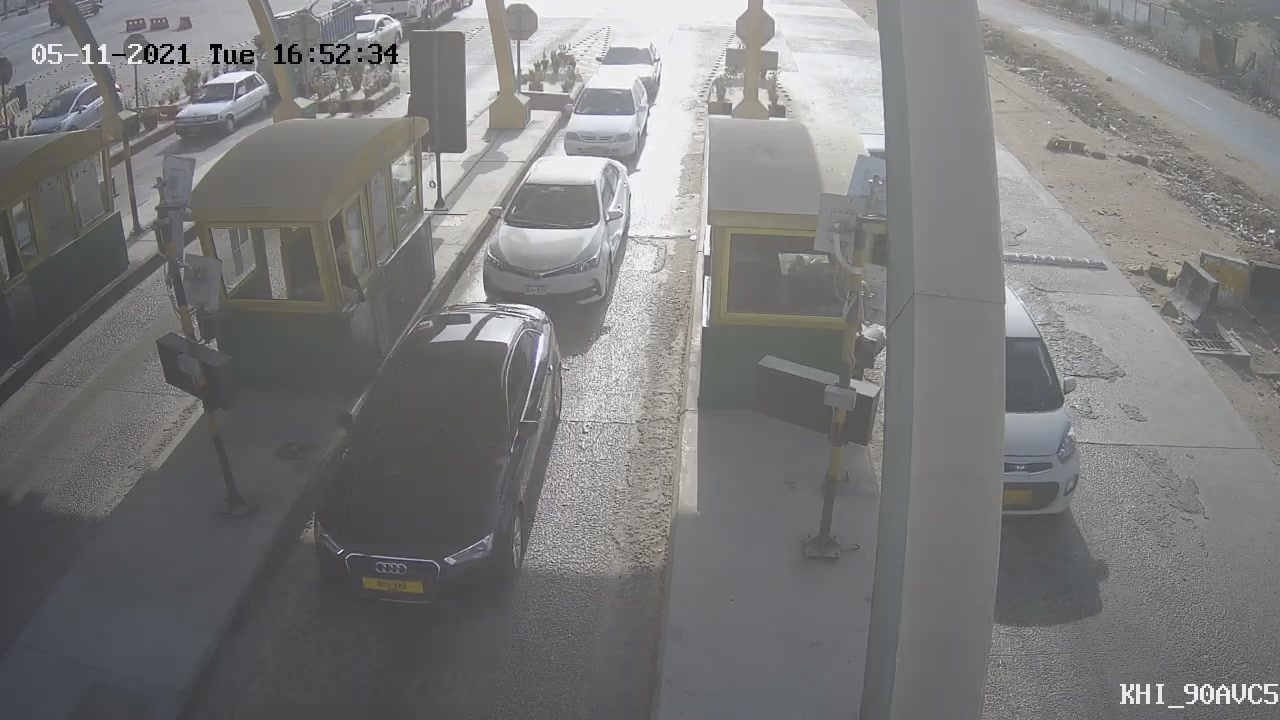F1: (451, 140, 657, 334), (543, 62, 664, 173)
